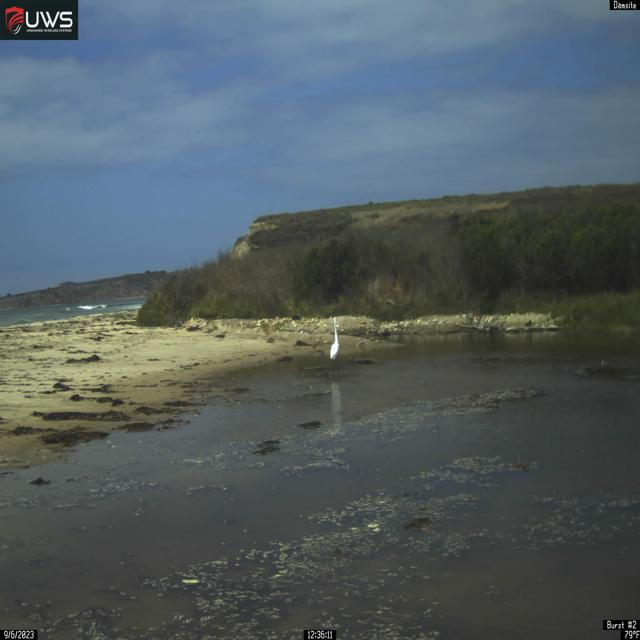bird: (329, 318, 341, 379)
